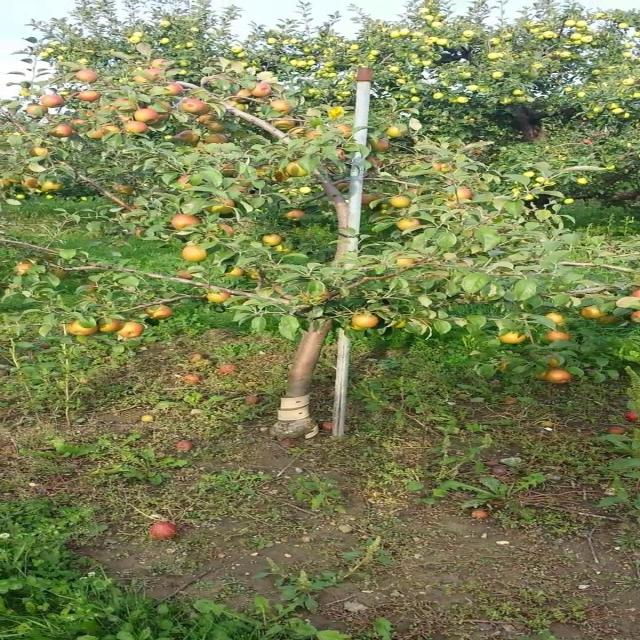apple: (178, 98, 211, 115), (64, 321, 98, 336), (351, 312, 380, 329), (207, 198, 236, 215), (171, 214, 200, 230), (118, 321, 144, 338), (133, 108, 160, 124), (182, 245, 207, 262), (144, 305, 173, 319), (544, 369, 571, 384), (284, 161, 309, 177), (49, 124, 76, 138), (173, 130, 200, 144), (498, 331, 527, 344), (111, 98, 138, 111), (384, 125, 409, 139), (24, 104, 49, 118), (98, 319, 124, 332), (396, 218, 422, 231), (76, 69, 100, 83), (40, 94, 64, 108), (207, 290, 231, 304), (580, 305, 604, 319), (124, 121, 149, 134), (544, 330, 571, 342), (271, 118, 298, 130), (251, 82, 271, 98), (269, 99, 293, 112), (13, 260, 33, 275), (220, 162, 238, 178), (389, 195, 411, 208), (371, 138, 391, 152), (164, 82, 184, 96), (453, 186, 473, 200), (284, 209, 307, 221), (431, 162, 456, 173), (78, 90, 100, 102), (196, 112, 218, 124), (149, 100, 171, 112), (149, 100, 171, 112), (49, 266, 69, 279), (204, 121, 227, 132), (113, 184, 136, 195), (204, 134, 229, 144), (596, 314, 618, 325), (40, 180, 62, 191), (229, 181, 251, 192), (227, 100, 249, 111), (262, 234, 282, 246), (544, 312, 564, 324), (231, 89, 251, 101), (224, 266, 244, 278), (336, 124, 353, 138), (20, 176, 38, 189), (364, 155, 382, 168), (271, 169, 289, 182), (271, 169, 289, 182), (144, 68, 162, 80), (29, 146, 49, 156), (100, 124, 120, 134), (396, 258, 416, 268), (244, 269, 262, 280), (256, 165, 271, 178), (178, 174, 191, 188), (218, 224, 233, 236), (304, 130, 322, 140), (149, 59, 169, 68), (362, 194, 380, 204), (333, 180, 349, 191), (87, 129, 104, 139), (133, 226, 147, 238), (289, 126, 307, 135), (133, 74, 149, 84), (176, 270, 193, 279), (276, 245, 293, 254), (391, 320, 407, 329), (531, 371, 547, 380), (336, 148, 347, 161), (178, 174, 191, 184), (547, 358, 560, 368), (69, 119, 89, 125), (444, 200, 458, 208), (522, 194, 536, 201), (576, 178, 589, 185)
